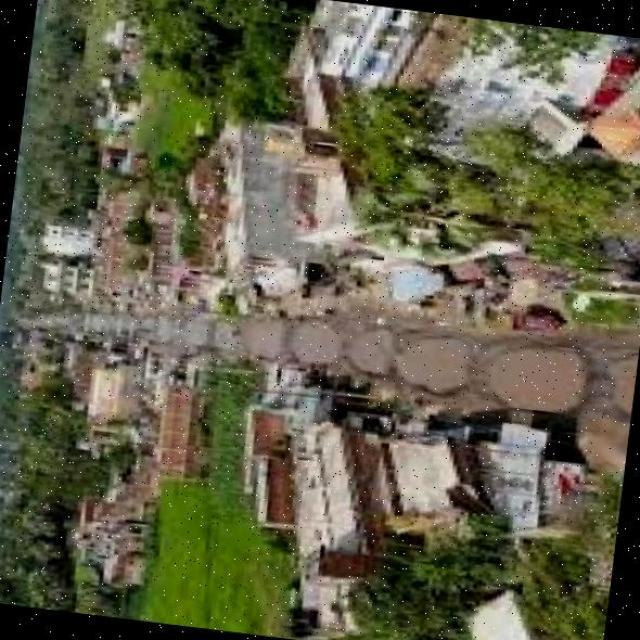pothole: (494, 354, 592, 405), (411, 341, 474, 398), (235, 316, 286, 365), (296, 324, 341, 372), (352, 331, 396, 377)
